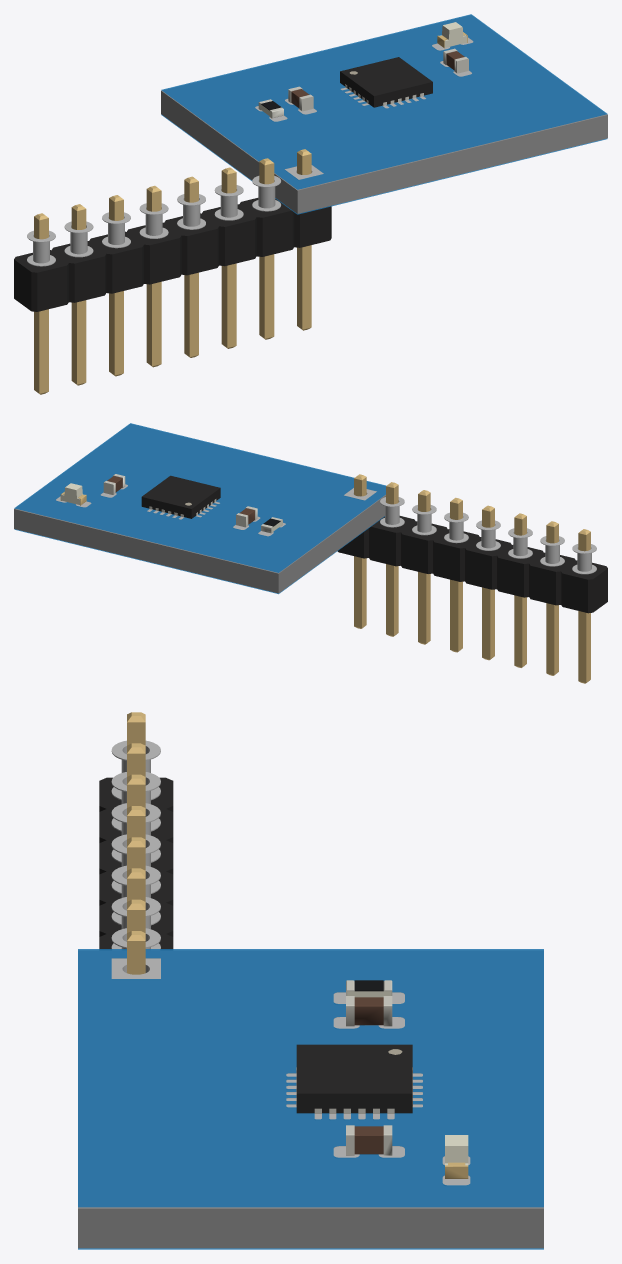
3 views of the same model, one above another, from view 1: azimuth 30°, elevation 25°; view 2: azimuth 150°, elevation 25°; view 3: azimuth 270°, elevation 25° (orthographic). The views are drawn at different scales.
Visible parts, largest first — view 1: =>[0:1:1:10], =>[0:1:1:8], REF**, =>[0:1:1:7]; view 2: =>[0:1:1:10], =>[0:1:1:8], REF**, =>[0:1:1:7]; view 3: =>[0:1:1:10], =>[0:1:1:8], REF**, =>[0:1:1:7].
Boxes of the visible parts, box(x1,y1,x2,y2) form: =>[0:1:1:10]: box(161, 15, 607, 213); =>[0:1:1:8]: box(161, 14, 607, 214); REF**: box(14, 22, 468, 394); =>[0:1:1:7]: box(27, 37, 473, 266); =>[0:1:1:10]: box(14, 424, 385, 593); =>[0:1:1:8]: box(14, 423, 386, 594); REF**: box(60, 474, 607, 683); =>[0:1:1:7]: box(56, 484, 596, 574); =>[0:1:1:10]: box(78, 951, 543, 1248); =>[0:1:1:8]: box(78, 949, 543, 1249); REF**: box(99, 712, 468, 1178); =>[0:1:1:7]: box(111, 740, 470, 1185).
Bounding box in the file's own units: 0.0384 × 0.0115 × 0.016.
Materials: 4 (4 with a texture image).
